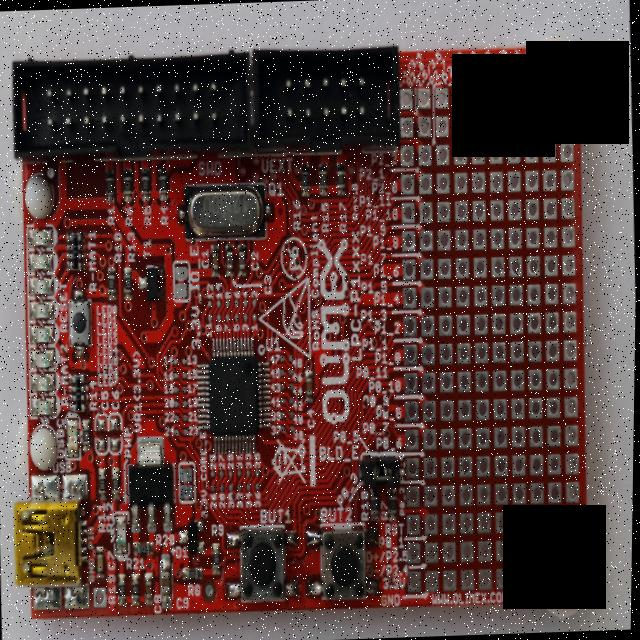-component text- -12-000-: (202, 191, 250, 217)
-component text- 102: (215, 552, 221, 565), (374, 499, 379, 511)
-component text- 103: (160, 179, 166, 189), (107, 180, 112, 190), (391, 498, 396, 508), (110, 276, 114, 288), (191, 570, 197, 578), (125, 180, 129, 191), (143, 179, 147, 190), (339, 174, 343, 184)
-component text- 152: (126, 277, 131, 289)
-component text- 195: (75, 385, 83, 402), (72, 242, 79, 260), (85, 430, 89, 440), (122, 585, 126, 595)
-component text- 202: (302, 173, 308, 186), (320, 173, 326, 185)
-component text- 241: (140, 546, 148, 552)
-component text- 330: (113, 478, 119, 488), (101, 478, 105, 489)
-component text- 391: (134, 584, 139, 594)
-electrolytic capacitor- C9: (160, 554, 175, 610)
-resistor network- -R-MAT1-: (67, 232, 87, 269)
-resistor network- -R-MAT2-: (70, 372, 89, 412)
-test point- -GND_PIN-: (94, 586, 109, 608)
-test point- 1: (253, 312, 257, 321)
-test point- 10: (217, 300, 221, 308)
-test point- 11: (208, 312, 213, 322)
-test point- 12: (207, 300, 213, 308)
-test point- 13: (182, 356, 187, 366)
-test point- 14: (174, 358, 179, 366)
-test point- 15: (182, 371, 188, 379)
-test point- 16: (175, 372, 180, 379)
-test point- 17: (183, 385, 189, 393)
-test point- 18: (174, 386, 180, 394)
-test point- 19: (183, 398, 189, 408)
-test point- 2: (252, 298, 258, 306)
-test point- 20: (175, 401, 179, 408)
-test point- 21: (183, 414, 189, 422)
-test point- 22: (175, 413, 180, 423)
-test point- 23: (184, 428, 190, 437)
-test point- 24: (175, 428, 181, 437)
-test point- 25: (211, 469, 217, 476)
-test point- 26: (211, 484, 217, 491)
-test point- 27: (220, 470, 226, 478)
-test point- 28: (220, 483, 225, 491)
-test point- 29: (228, 470, 235, 478)
-test point- 3: (244, 312, 249, 320)
-test point- 30: (229, 482, 235, 491)
-test point- 31: (237, 469, 244, 477)
-test point- 32: (238, 482, 244, 490)
-test point- 33: (247, 468, 252, 478)
-test point- 34: (248, 482, 252, 490)
-test point- 35: (256, 468, 261, 477)
-test point- 36: (256, 481, 261, 490)
-test point- 37: (281, 424, 288, 434)
-test point- 38: (290, 424, 296, 432)
-test point- 39: (282, 411, 286, 418)
-test point- 4: (244, 298, 248, 308)
-test point- 40: (290, 411, 295, 418)
-test point- 41: (281, 396, 287, 404)
-test point- 42: (289, 396, 295, 404)
-test point- 43: (281, 382, 286, 390)
-test point- 44: (289, 382, 295, 390)
-test point- 45: (281, 368, 287, 377)
-test point- 46: (289, 368, 295, 376)
-test point- 47: (280, 354, 285, 362)
-test point- 48: (289, 354, 293, 362)
-test point- 5: (234, 312, 240, 322)
-test point- 6: (234, 300, 240, 308)
-test point- 7: (226, 312, 230, 320)
-test point- 8: (225, 298, 231, 308)
-test point- 9: (217, 314, 221, 322)
2080: (159, 169, 168, 201)
2156: (141, 168, 150, 201)
2189: (123, 168, 133, 202)
2200: (389, 488, 398, 520)
2211: (184, 566, 204, 580)
2222: (213, 542, 222, 574)
2249: (510, 598, 514, 602)
2253: (367, 562, 409, 578)
2268: (397, 51, 422, 90)
2269: (415, 50, 442, 87)
2277: (383, 576, 407, 590)
2278: (199, 430, 211, 520)
2279: (188, 244, 203, 350)
2320: (319, 443, 360, 463)
2323: (519, 589, 534, 603)
2339: (367, 549, 409, 563)
2340: (171, 544, 189, 560)
2379: (88, 525, 98, 584)
2410: (346, 230, 365, 362)
2444: (380, 534, 406, 550)
2445: (368, 379, 403, 394)
2446: (357, 364, 390, 380)
2447: (399, 486, 408, 516)
2448: (335, 470, 361, 507)
2449: (399, 455, 407, 481)
2450: (333, 428, 360, 445)
2451: (376, 435, 403, 450)
2452: (363, 420, 389, 435)
2453: (376, 406, 403, 422)
2454: (364, 393, 390, 406)
2465: (375, 350, 401, 366)
2466: (362, 337, 389, 352)
2467: (365, 206, 399, 222)
2468: (360, 194, 392, 208)
2469: (375, 320, 401, 336)
2470: (361, 307, 387, 322)
2471: (373, 292, 401, 308)
2472: (361, 280, 388, 294)
2473: (373, 264, 400, 280)
2474: (360, 250, 387, 266)
2475: (373, 235, 400, 251)
2476: (360, 222, 386, 238)
2485: (371, 180, 397, 194)
2486: (358, 165, 385, 182)
2487: (481, 48, 509, 88)
2488: (495, 48, 522, 84)
2489: (371, 152, 397, 168)
2490: (440, 49, 465, 86)
2491: (405, 58, 425, 87)
2492: (425, 58, 447, 86)
2493: (454, 49, 478, 86)
2494: (468, 49, 492, 86)
2498: (508, 48, 533, 84)
2499: (523, 48, 548, 83)
2500: (538, 71, 547, 111)
2501: (570, 68, 579, 110)
2518: (87, 230, 99, 292)
2519: (60, 343, 71, 407)
2535: (350, 180, 359, 222)
2538: (307, 214, 324, 352)
2605: (131, 349, 144, 433)
2608: (432, 589, 510, 606)
2644: (251, 322, 258, 330)
2645: (216, 282, 223, 300)
2655: (206, 322, 213, 338)
2661: (207, 282, 215, 300)
2671: (187, 354, 198, 366)
2680: (164, 354, 174, 366)
2682: (188, 368, 198, 380)
2685: (165, 370, 175, 381)
2690: (188, 382, 199, 394)
2692: (165, 382, 175, 394)
2693: (189, 396, 199, 408)
2700: (251, 289, 258, 298)
2701: (165, 396, 175, 408)
2705: (540, 589, 564, 603)
2706: (189, 410, 199, 423)
2710: (165, 410, 175, 422)
2714: (189, 425, 200, 435)
2715: (165, 424, 176, 436)
2718: (210, 453, 218, 469)
2721: (210, 491, 218, 509)
2722: (219, 454, 227, 471)
2723: (219, 492, 226, 508)
2724: (228, 453, 236, 471)
2728: (243, 322, 249, 330)
2729: (229, 492, 236, 509)
2732: (237, 453, 245, 469)
2733: (237, 491, 245, 508)
2734: (245, 453, 253, 469)
2736: (245, 491, 253, 508)
2737: (254, 452, 262, 468)
2738: (255, 490, 262, 507)
2739: (272, 424, 283, 436)
2740: (293, 428, 305, 441)
2741: (272, 409, 282, 422)
2745: (243, 290, 249, 298)
2746: (294, 414, 304, 426)
2747: (271, 396, 281, 408)
2748: (293, 399, 303, 412)
2749: (271, 382, 282, 394)
2750: (293, 386, 304, 396)
2751: (271, 366, 281, 378)
2752: (292, 371, 304, 383)
2753: (271, 354, 281, 366)
2754: (292, 356, 302, 368)
2756: (233, 322, 241, 332)
2766: (234, 290, 241, 298)
2769: (224, 322, 231, 332)
2775: (224, 290, 232, 299)
2784: (216, 324, 223, 332)
2841: (260, 506, 294, 525)
2842: (321, 506, 354, 522)
2844: (201, 248, 210, 268)
2955: (250, 250, 261, 271)
3057: (263, 273, 273, 296)
3153: (307, 408, 317, 428)
3188: (100, 388, 110, 411)
3199: (111, 388, 121, 411)
3210: (108, 550, 117, 570)
3221: (155, 592, 164, 612)
3232: (177, 596, 191, 610)
3439: (382, 592, 402, 607)
3573: (96, 302, 118, 316)
3574: (97, 314, 117, 326)
3576: (97, 324, 118, 336)
3577: (97, 336, 119, 346)
3578: (97, 345, 119, 356)
3579: (98, 355, 119, 366)
3580: (98, 364, 120, 376)
3581: (98, 375, 119, 388)
3630: (316, 234, 355, 423)
3751: (124, 427, 133, 458)
3753: (268, 180, 285, 198)
3766: (106, 206, 116, 226)
3767: (113, 231, 123, 263), (361, 490, 371, 520)
3778: (97, 501, 107, 532)
3789: (106, 501, 115, 532)
3800: (127, 230, 136, 262)
3811: (89, 380, 99, 410)
3822: (320, 200, 330, 232)
3833: (292, 199, 303, 232)
3844: (338, 200, 348, 233)
3866: (109, 573, 118, 605)
3878: (156, 532, 176, 547)
3889: (127, 556, 146, 570)
4046: (160, 205, 169, 225)
4122: (143, 206, 152, 226)
4157: (124, 206, 135, 226)
4168: (381, 498, 390, 522)
4179: (189, 582, 203, 596)
4190: (211, 522, 226, 538)
4204: (59, 280, 69, 334)
4234: (386, 521, 405, 535)
4265: (197, 159, 223, 176)
4285: (143, 238, 152, 260)
4341: (266, 335, 282, 352)
4374: (260, 157, 293, 174)
4375: (53, 459, 73, 474)
4376: (57, 418, 66, 460)
4453: (139, 264, 167, 300)
button BUT1: (225, 525, 300, 601)
button BUT2: (307, 526, 382, 600)
button RESET: (66, 286, 94, 359)
capacitor C10: (212, 244, 220, 276)
capacitor C20: (239, 243, 246, 276)
capacitor C30: (226, 244, 234, 276)
capacitor C40: (306, 368, 314, 401)
capacitor C70: (98, 546, 105, 576)
capacitor C80: (146, 572, 153, 604)
clock Q2: (176, 182, 275, 240)
connector: (392, 81, 590, 593)
connector TP1: (11, 52, 253, 162)
connector UNKNOWN: (251, 44, 402, 153)
connector X1: (8, 458, 89, 596)
diode D1: (179, 519, 206, 553)
ic -VR1-3-3V-: (127, 435, 177, 533)
ic U1: (195, 336, 274, 455)
jumper -BLD_E-: (362, 453, 401, 485)
led LED0: (27, 225, 54, 248)
led LED1: (28, 250, 55, 272)
led LED2: (28, 274, 56, 297)
led LED3: (28, 297, 57, 322)
led LED4: (29, 322, 57, 346)
led LED5: (29, 345, 57, 370)
led LED6: (30, 369, 59, 394)
led LED7: (32, 393, 59, 418)
led PWR: (115, 512, 131, 556)
led USBC: (66, 418, 82, 458)
pads -3-3V_CORE_E-: (178, 460, 198, 504)
pads -3-3V_IO_E-: (171, 258, 192, 303)
pads C5: (94, 412, 111, 456)
pads C6: (108, 412, 125, 456)
resistor R10: (106, 168, 114, 202)
resistor R100: (372, 490, 381, 520)
resistor R110: (100, 468, 107, 500)
resistor R120: (113, 468, 120, 500)
resistor R130: (124, 266, 132, 298)
resistor R140: (83, 418, 93, 452)
resistor R150: (319, 163, 328, 195)
resistor R160: (301, 164, 310, 196)
resistor R170: (336, 162, 346, 195)
resistor R180: (108, 267, 117, 299)
resistor R190: (119, 574, 128, 604)
resistor R210: (133, 573, 140, 604), (139, 544, 151, 554)
